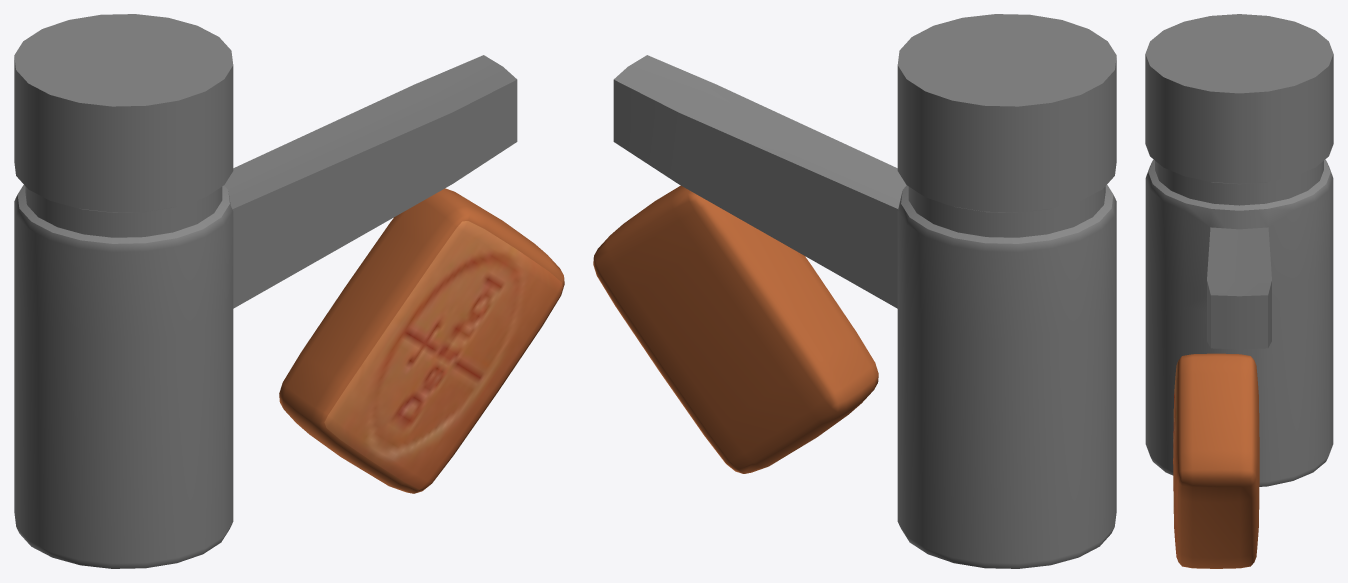
The model's file is washing.fbx.
3 renders of one model, left to right at view 1: azimuth 30°, elevation 25°; view 2: azimuth 150°, elevation 25°; view 3: azimuth 270°, elevation 25°, orthographic. The views are drawn at different scales.
Visible parts, largest first — view 1: tap, soap; view 2: tap, soap; view 3: tap, soap.
Part boxes in pixels (bbox=[...]): tap: bbox=[14, 14, 517, 568]; soap: bbox=[279, 188, 564, 493]; tap: bbox=[613, 14, 1116, 568]; soap: bbox=[593, 185, 878, 473]; tap: bbox=[1145, 14, 1333, 486]; soap: bbox=[1173, 353, 1259, 568].
Bounding box in the file's own units: 5.31 × 4.77 × 2.
Materials: 3 (1 with a texture image).
